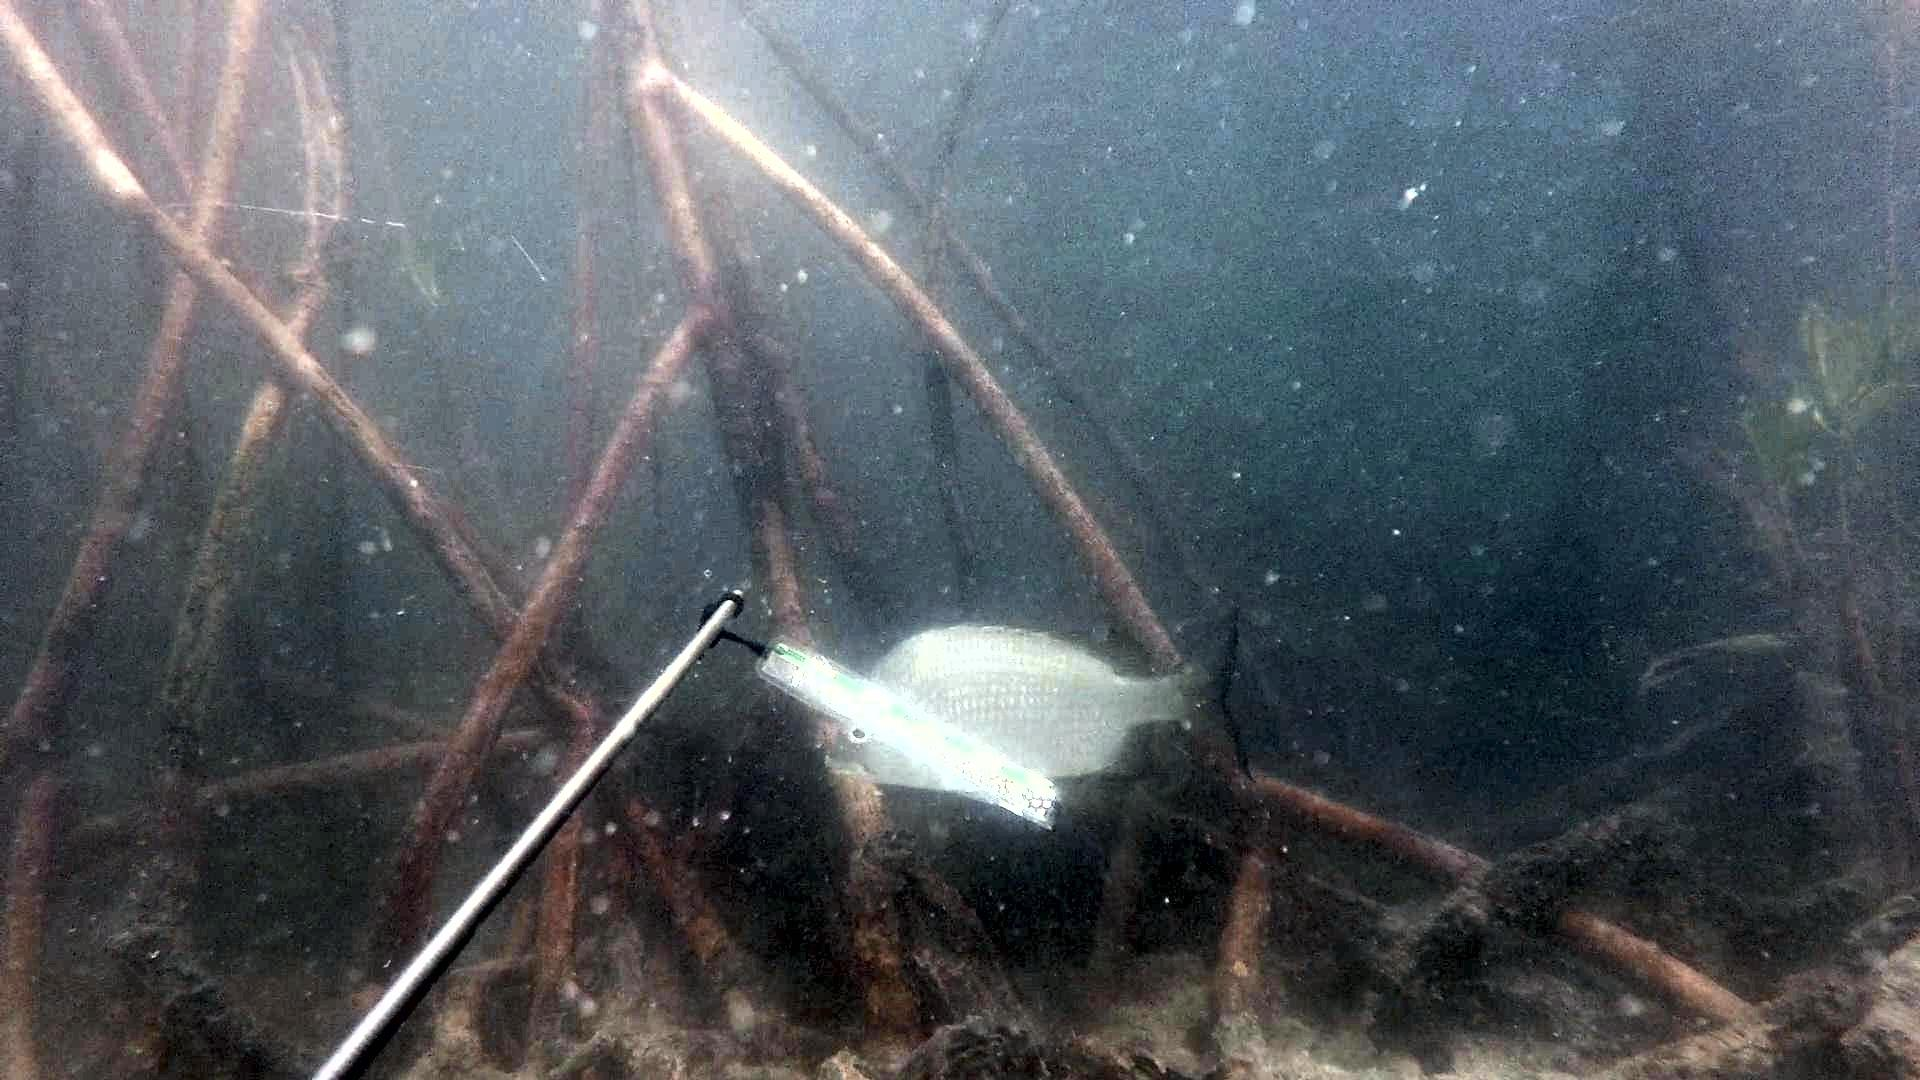acanthopagrus palmaris: (812, 603, 1280, 828)
